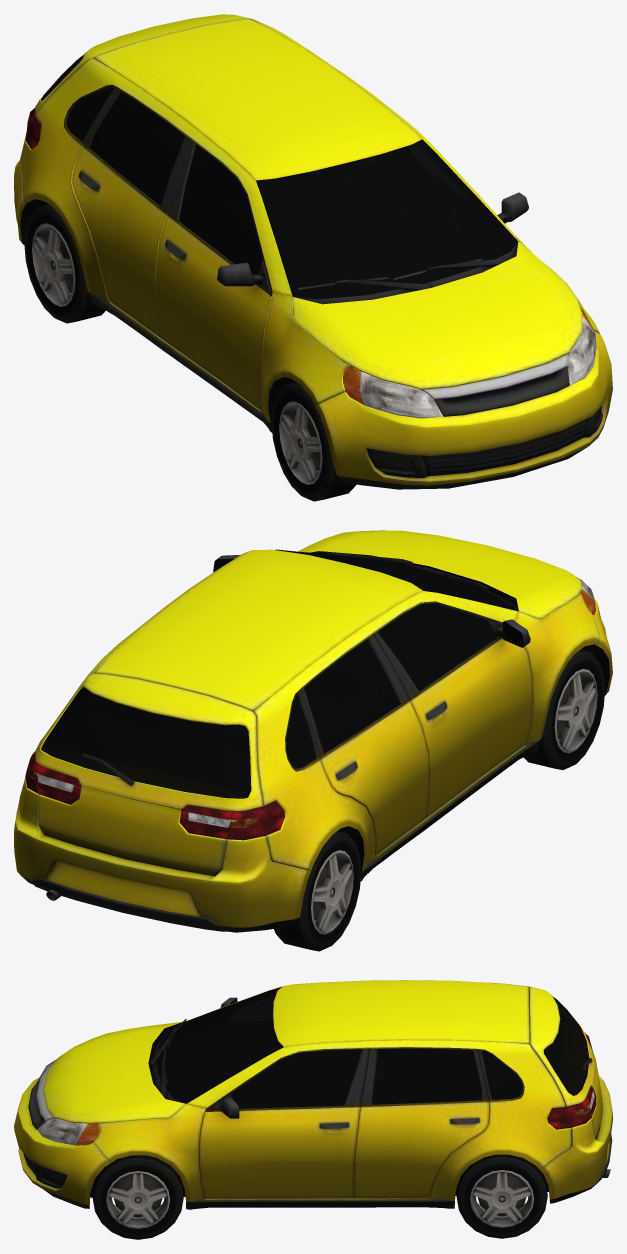
File: hatchback-sports.glb
3 views of the same model, one above another, from view 1: azimuth 30°, elevation 25°; view 2: azimuth 150°, elevation 25°; view 3: azimuth 270°, elevation 25° (orthographic). The views are drawn at different scales.
Parts seen in each view (by area): view 1: Hatchback Body_Body_0, Hatchback Body_Glass_0, Wheel_B002_Wheek_0, Wheel_B003_Wheek_0, Hatchback Body_Optics_0; view 2: Hatchback Body_Body_0, Hatchback Body_Glass_0, Wheel_B003_Wheek_0, Wheel_B002_Wheek_0, Hatchback Body_Optics_0; view 3: Hatchback Body_Body_0, Hatchback Body_Glass_0, Wheel_B_Wheek_0, Wheel_B001_Wheek_0, Hatchback Body_Optics_0.
Part boxes in pixels (x1=…): Hatchback Body_Body_0: x1=14, y1=14, x2=612, y2=489; Hatchback Body_Glass_0: x1=41, y1=55, x2=517, y2=299; Wheel_B002_Wheek_0: x1=271, y1=382, x2=356, y2=501; Wheel_B003_Wheek_0: x1=24, y1=204, x2=105, y2=323; Hatchback Body_Optics_0: x1=25, y1=108, x2=596, y2=418; Hatchback Body_Body_0: x1=14, y1=530, x2=612, y2=932; Hatchback Body_Glass_0: x1=41, y1=549, x2=517, y2=798; Wheel_B003_Wheek_0: x1=274, y1=831, x2=361, y2=951; Wheel_B002_Wheek_0: x1=524, y1=649, x2=604, y2=769; Hatchback Body_Optics_0: x1=25, y1=577, x2=595, y2=840; Hatchback Body_Body_0: x1=14, y1=980, x2=612, y2=1209; Hatchback Body_Glass_0: x1=156, y1=987, x2=589, y2=1108; Wheel_B_Wheek_0: x1=92, y1=1155, x2=183, y2=1239; Wheel_B001_Wheek_0: x1=456, y1=1154, x2=547, y2=1238; Hatchback Body_Optics_0: x1=37, y1=1033, x2=596, y2=1145.
Bounding box in the file's own units: 1.84 × 1.43 × 4.19.
Materials: 4 (3 with a texture image).
